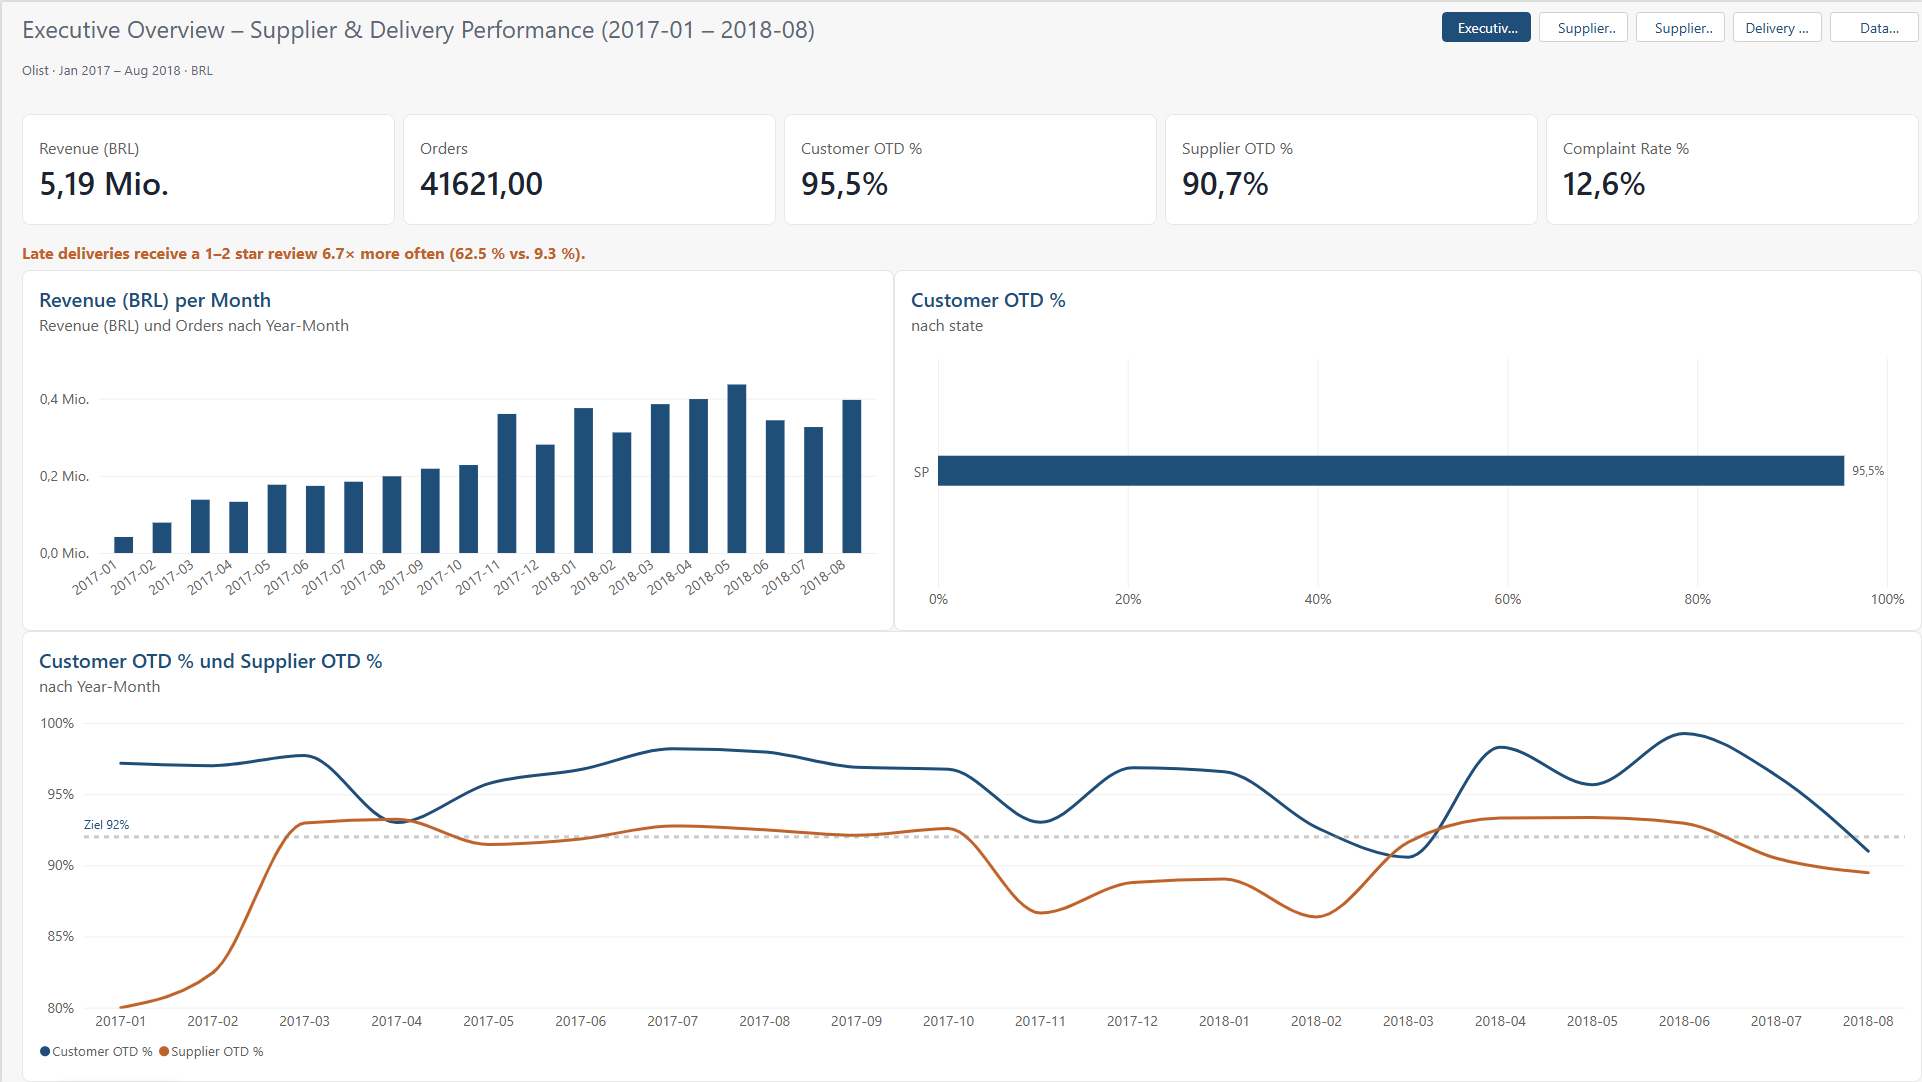

Layout of this report page (visuals, bound fields, positions):
{"tool":"powerbi","page":{"name":"Executive Overview","canvas":[1920,1080],"ordinal":0},"visuals":[{"type":"textbox","box":[20.2,10.1,1899.8,83.2],"z":0},{"type":"cardVisual","fields":{"Data":["_Measures.Revenue (BRL)","_Measures.Orders","_Measures.Customer OTD %","_Measures.Supplier OTD %","_Measures.Complaint Rate %"]},"box":[20.2,112.5,1899.8,110.2],"z":1000},{"type":"lineChart","fields":{"Category":["dim_date.Year-Month"],"Y":["_Measures.Customer OTD %","_Measures.Supplier OTD %"]},"box":[20.2,628.8,1899.8,451],"z":2000},{"type":"clusteredColumnChart","title":"Revenue (BRL) per Month","fields":{"Category":["dim_date.Year-Month"],"Y":["_Measures.Revenue (BRL)"]},"box":[20.2,267.7,871.7,361.1],"z":3000},{"type":"clusteredBarChart","fields":{"Category":["dim_customer.state"],"Y":["_Measures.Customer OTD %"]},"box":[892,267.7,1028,361.1],"z":4000},{"type":"textbox","box":[20.2,222.7,1239.5,45],"z":5000},{"type":"pageNavigator","box":[1439.7,10.1,480,30],"z":5001}]}

Visuals, with their boxes in screenshot pixels (x1, y1, x2, y2), scaled from the page's 1920x1080 canvas onto the 1922x1082 screenshot:
textbox: [20, 10, 1921, 93]
cardVisual - _Measures.Revenue (BRL) x _Measures.Orders: [20, 113, 1921, 223]
lineChart - dim_date.Year-Month x _Measures.Customer OTD %: [20, 630, 1921, 1081]
"Revenue (BRL) per Month" clusteredColumnChart: [20, 268, 893, 630]
clusteredBarChart - dim_customer.state x _Measures.Customer OTD %: [893, 268, 1921, 630]
textbox: [20, 223, 1261, 268]
pageNavigator: [1441, 10, 1921, 40]
